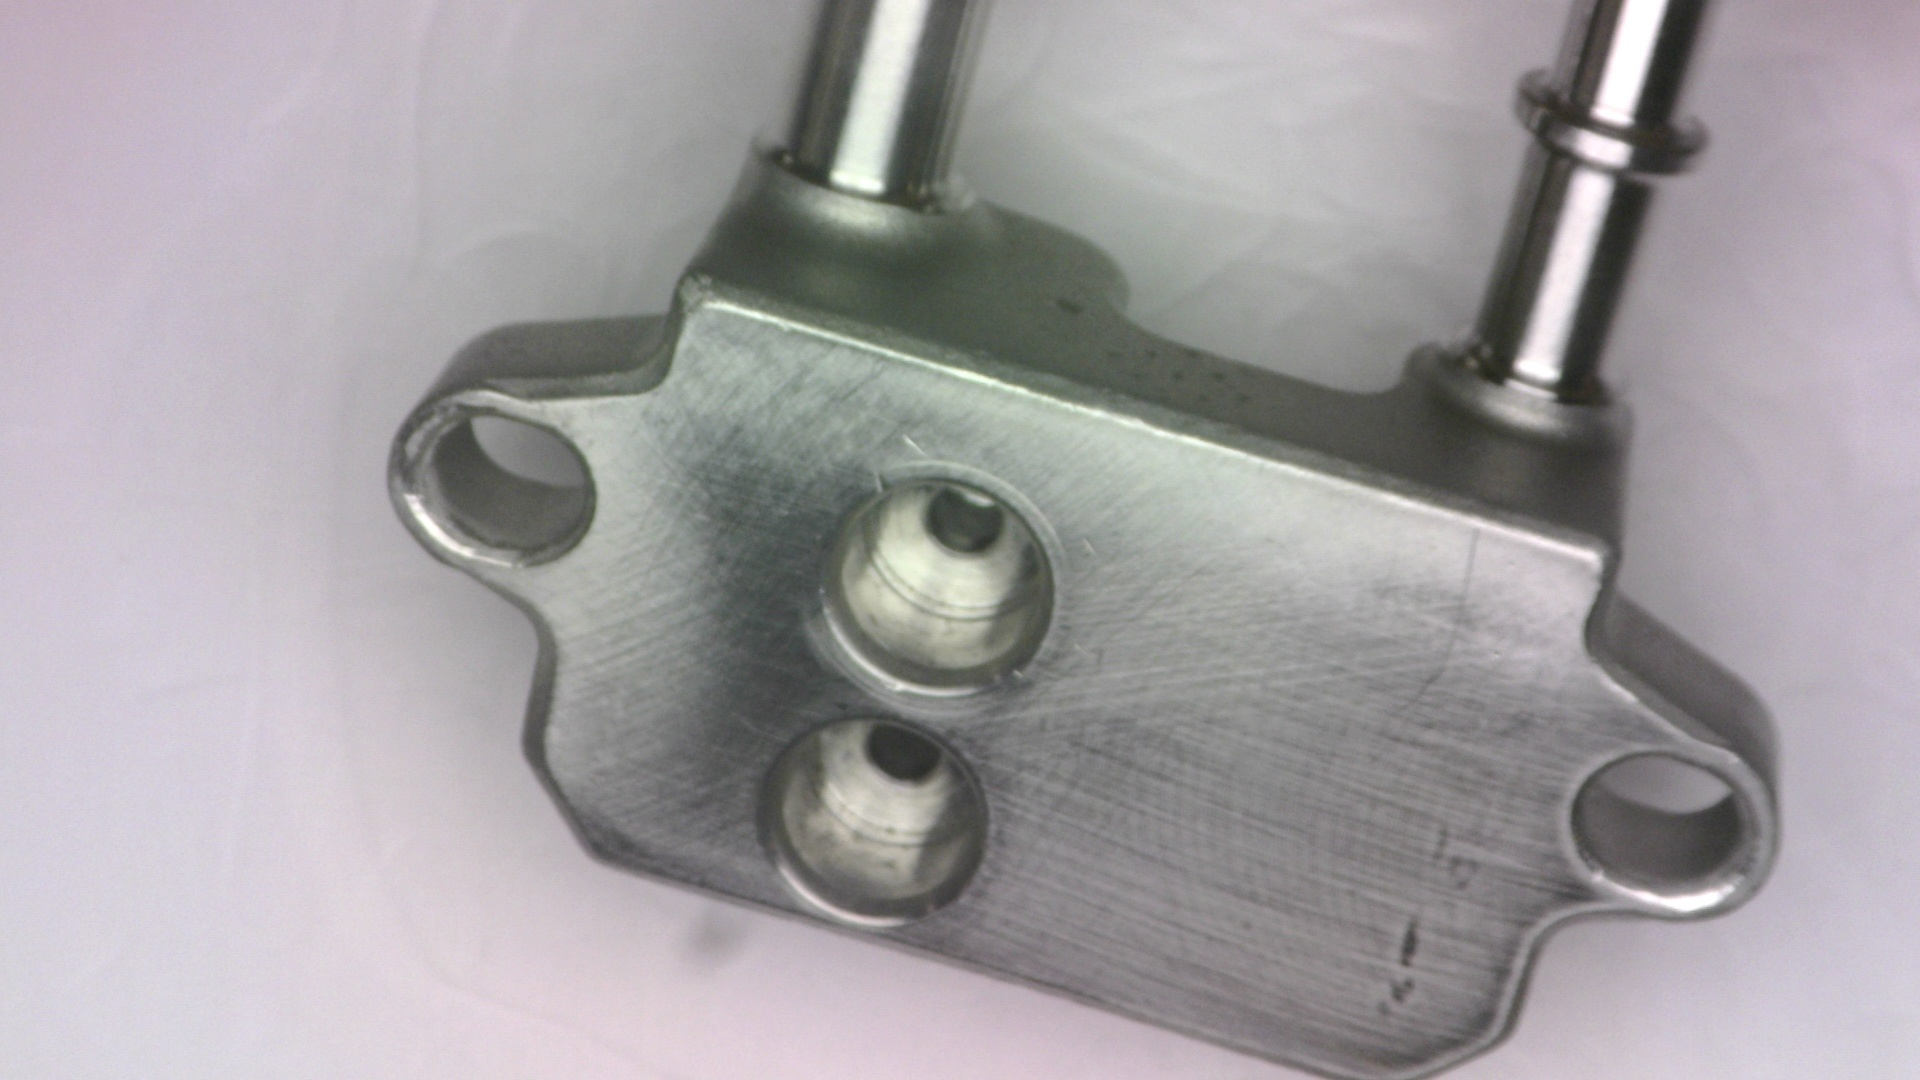chamfer_presence: (725, 913, 1112, 1080)
